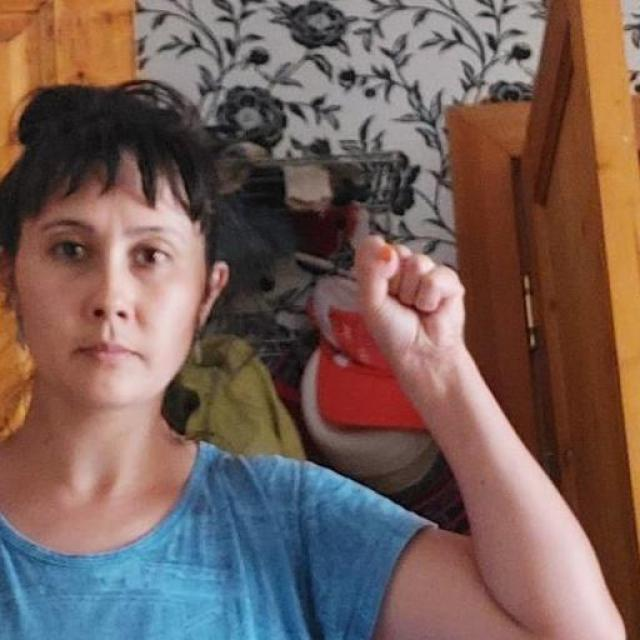hand: (352, 232, 468, 354)
